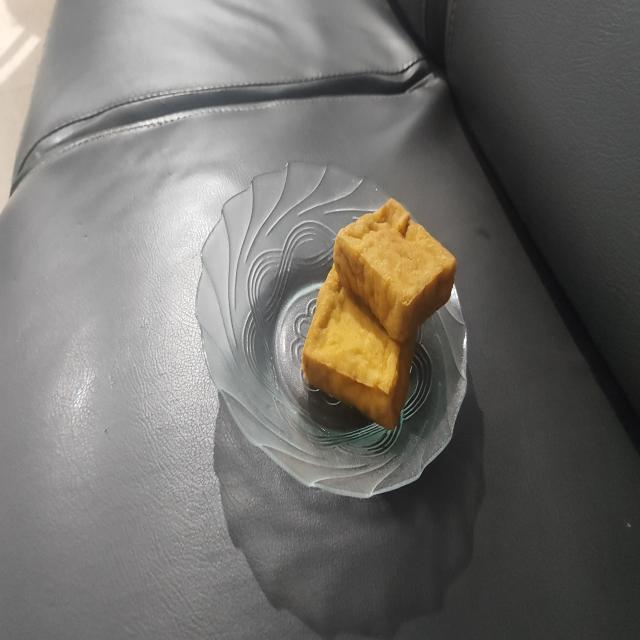tahu_goreng: (302, 265, 417, 430), (333, 198, 456, 342)
